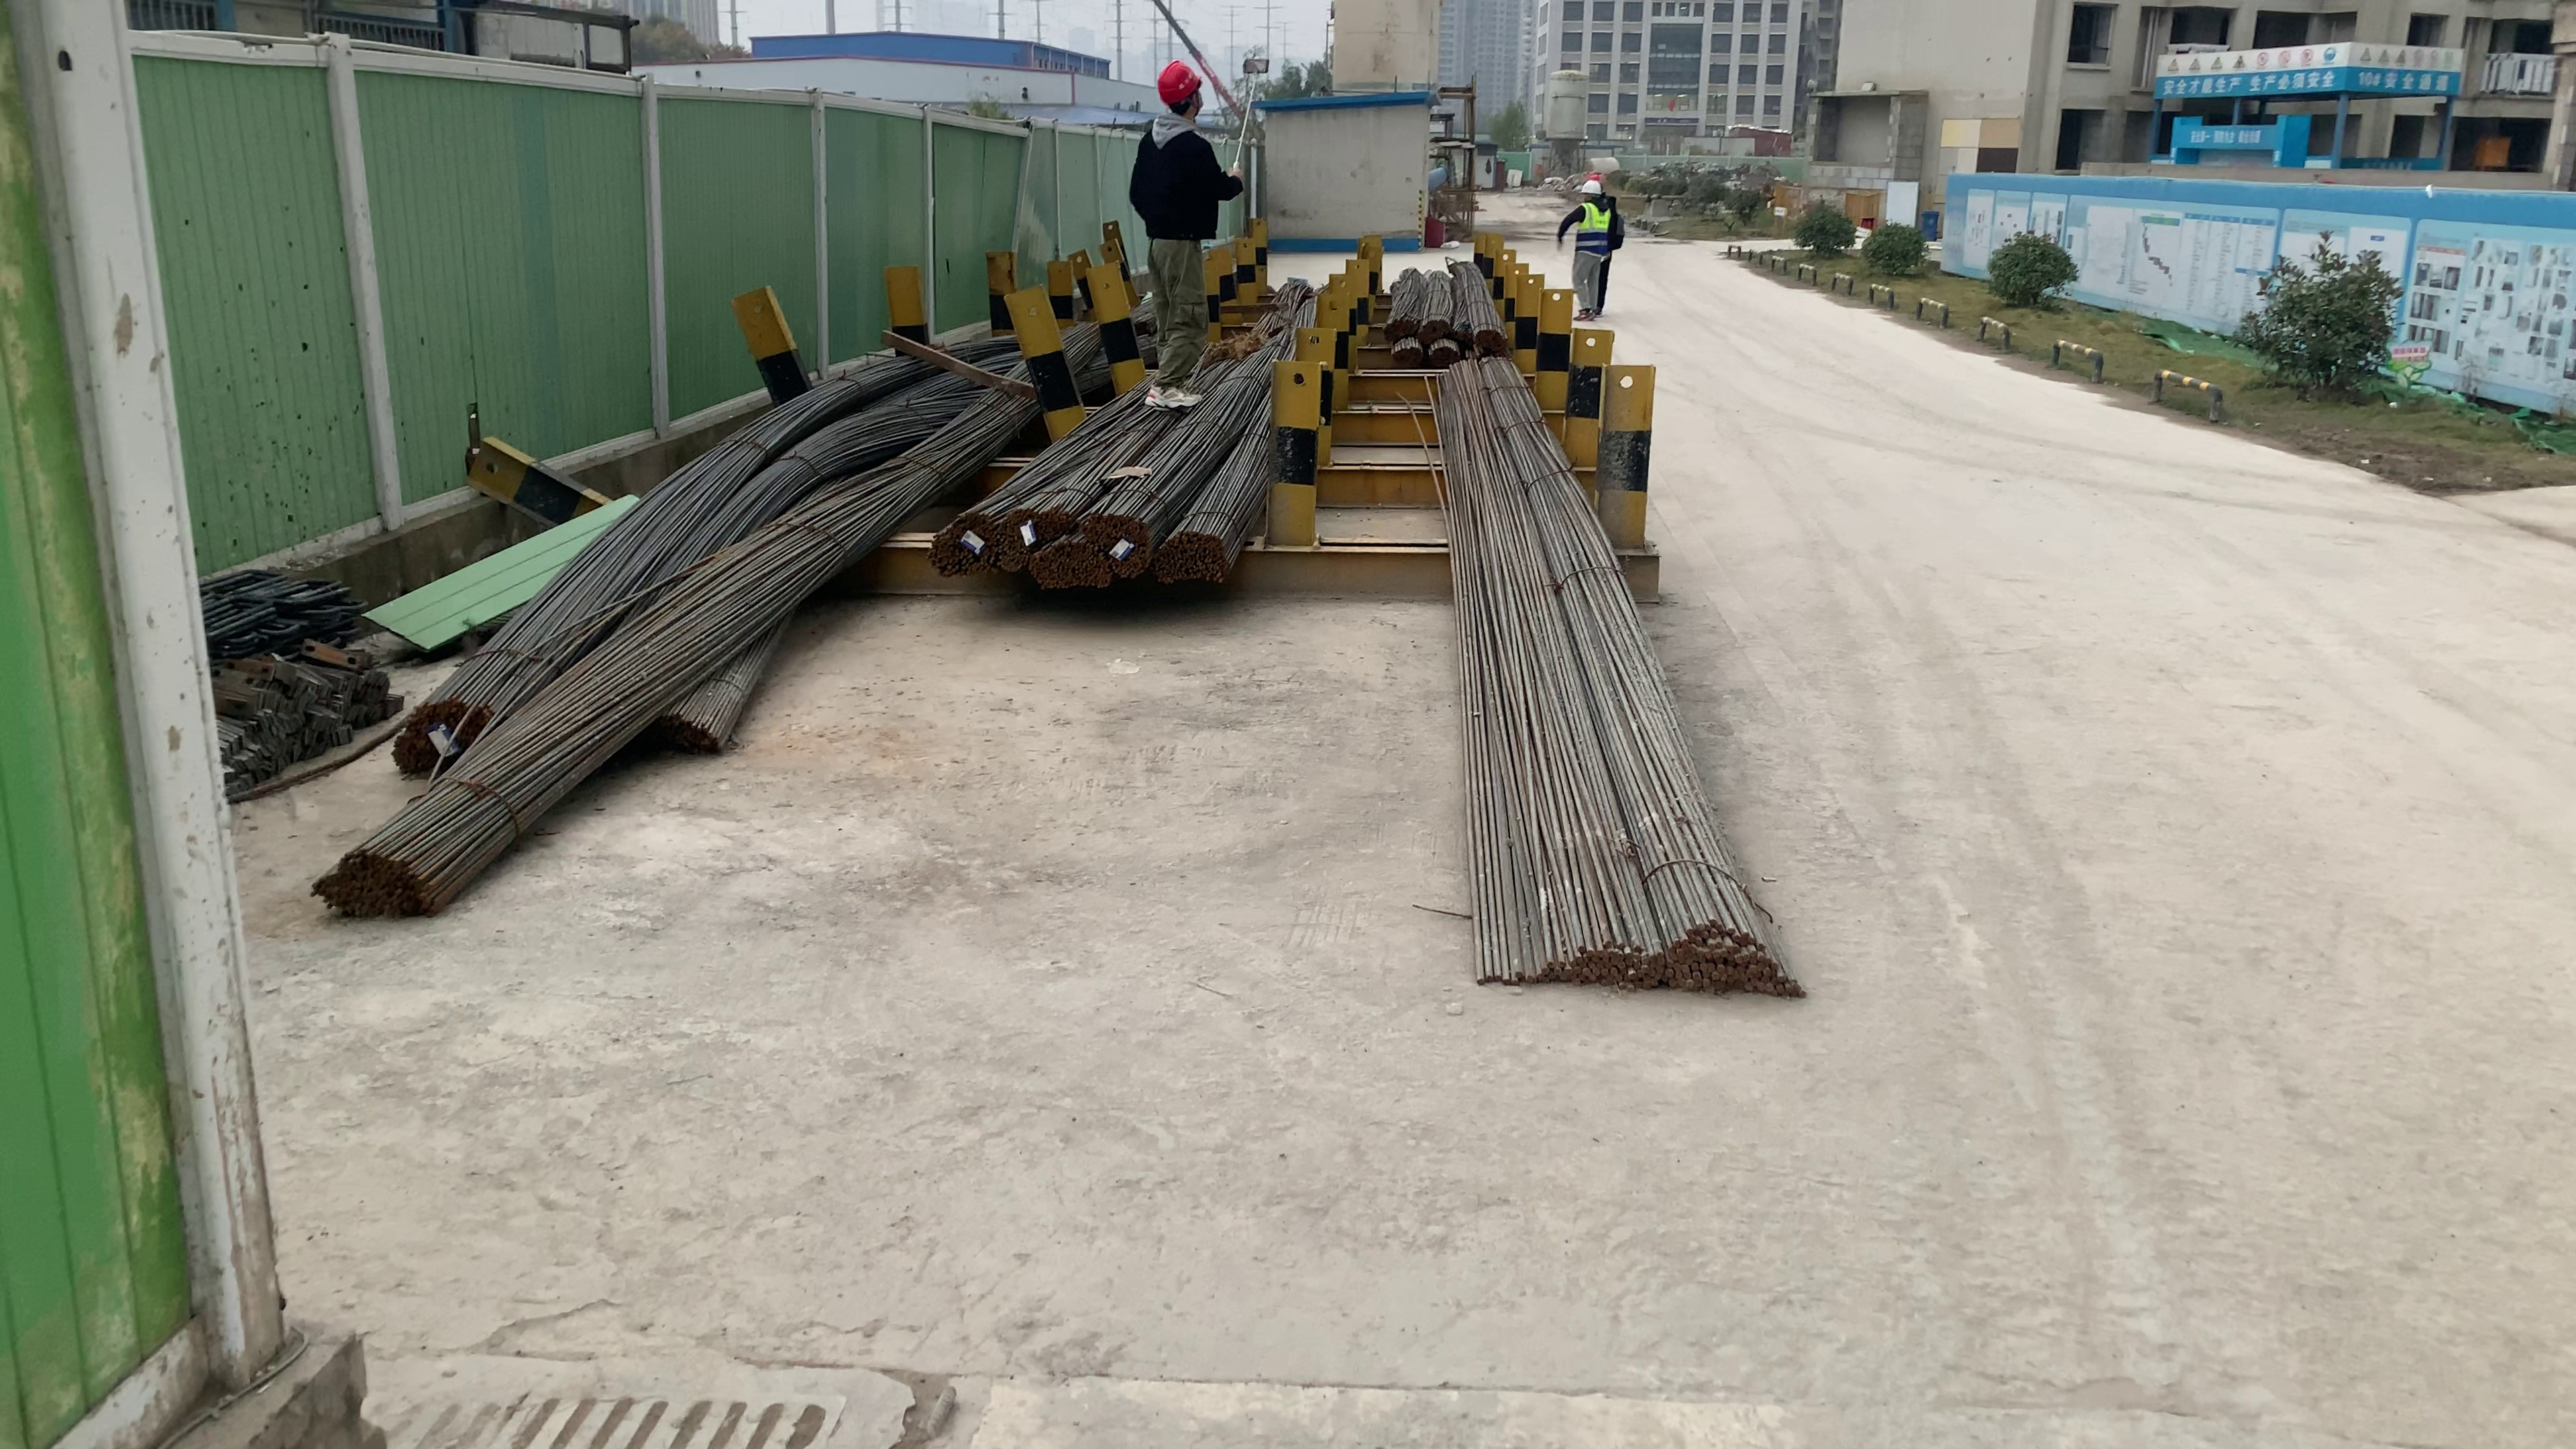rebar: (1463, 922, 1808, 1005), (297, 840, 449, 922), (391, 699, 492, 763), (1081, 501, 1155, 580), (982, 501, 1065, 563), (640, 709, 731, 757), (932, 511, 991, 580), (1159, 533, 1237, 582), (1031, 548, 1106, 593), (1474, 318, 1509, 347), (1385, 341, 1424, 366), (1433, 341, 1461, 366), (1385, 310, 1414, 331), (1426, 313, 1445, 331)
